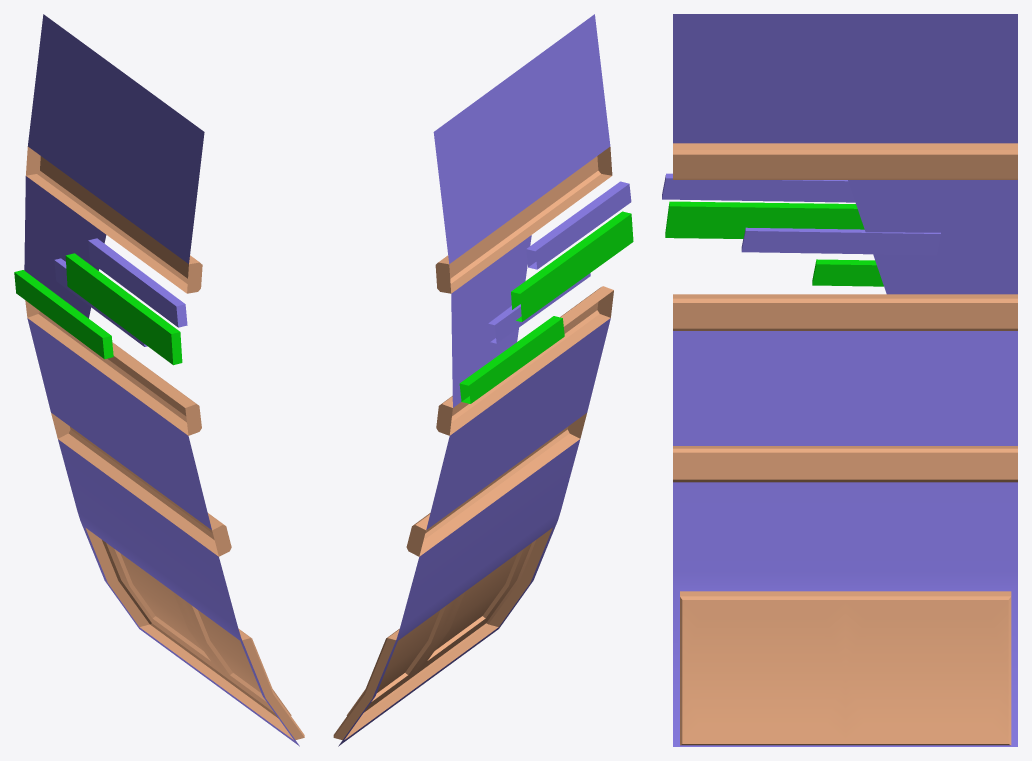
File: curved_wall_broken_03.fbx
3 views of the same model, side by side, from view 1: azimuth 30°, elevation 25°; view 2: azimuth 150°, elevation 25°; view 3: azimuth 270°, elevation 25° (orthographic). The views are drawn at different scales.
Visible parts, largest first — view 1: Object013; view 2: Object013; view 3: Object013.
Boxes of the visible parts, x1,y1,x2,y2 form: Object013: (14, 14, 304, 746); Object013: (333, 14, 633, 746); Object013: (662, 14, 1017, 746).
Size of the model in its own units: 0.5014 by 2.2 by 1.04.
